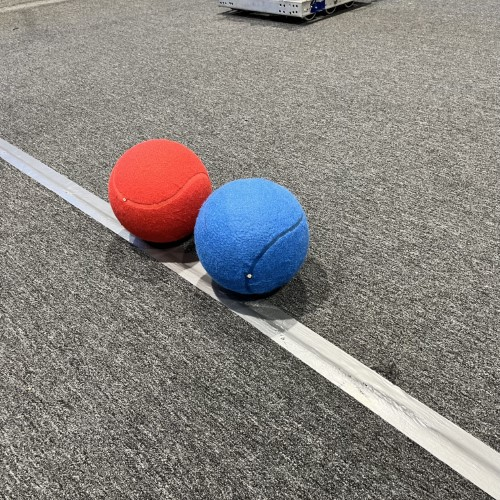blue: (192, 175, 311, 297)
red: (106, 137, 215, 246)
